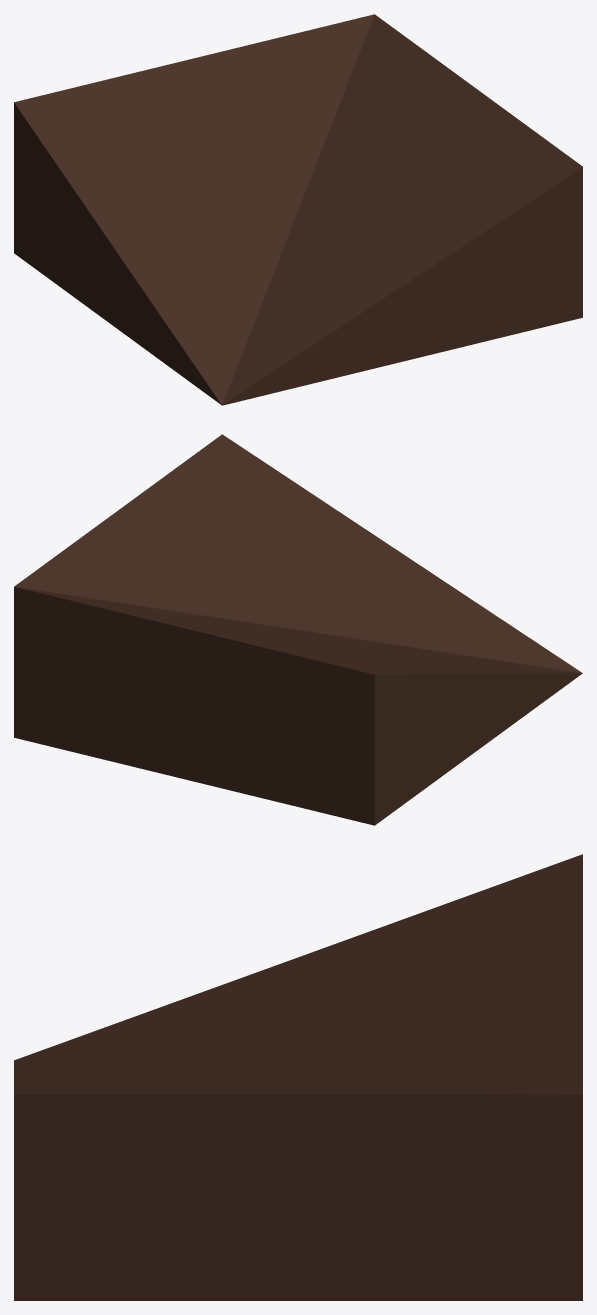
Rendered from BlockTerrainReverseCorner.glb.
3 views of the same model, one above another, from view 1: azimuth 30°, elevation 25°; view 2: azimuth 150°, elevation 25°; view 3: azimuth 270°, elevation 25° (orthographic). The views are drawn at different scales.
Parts seen in each view (by area): view 1: Block Ground Reverse Corner 1; view 2: Block Ground Reverse Corner 1; view 3: Block Ground Reverse Corner 1.
Boxes of the visible parts, box(x1,y1,x2,y2) form: Block Ground Reverse Corner 1: box(14, 14, 582, 405); Block Ground Reverse Corner 1: box(14, 434, 582, 825); Block Ground Reverse Corner 1: box(14, 854, 582, 1300).
Bounding box in the file's own units: 1 × 0.4 × 1.
